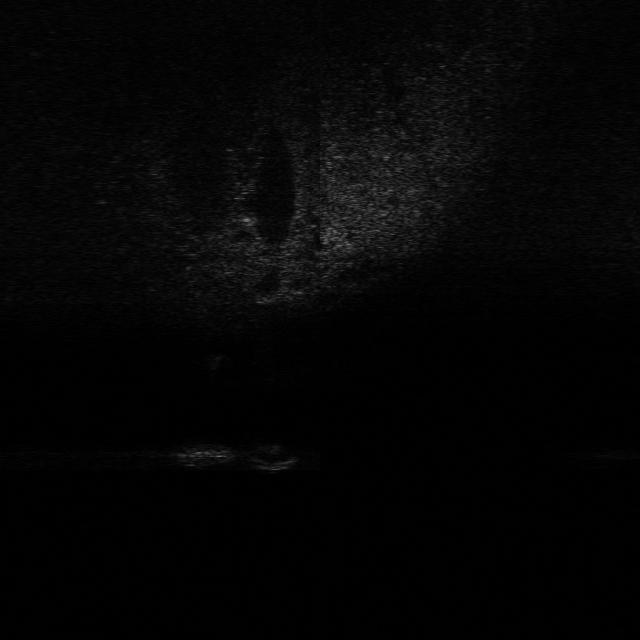ball: (253, 440, 299, 473)
circle cage: (173, 441, 233, 474)
cylinder: (206, 346, 223, 374)
